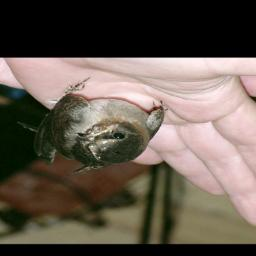Swallow: (13, 74, 168, 175)
